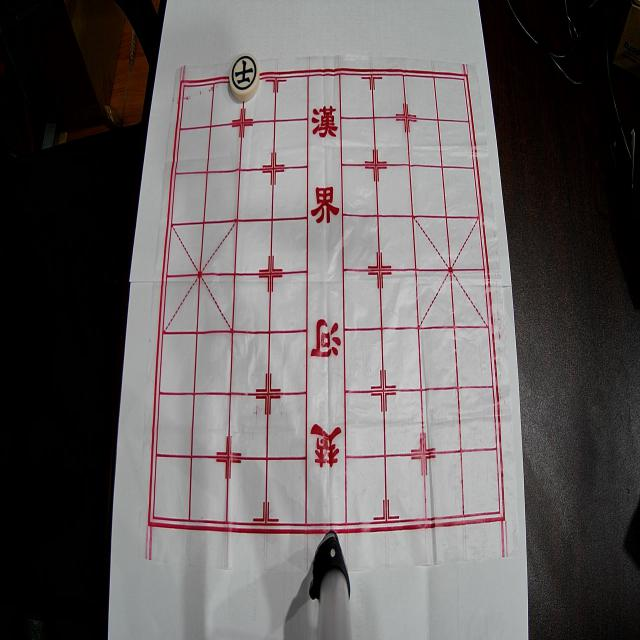black-guard: (229, 53, 259, 101)
